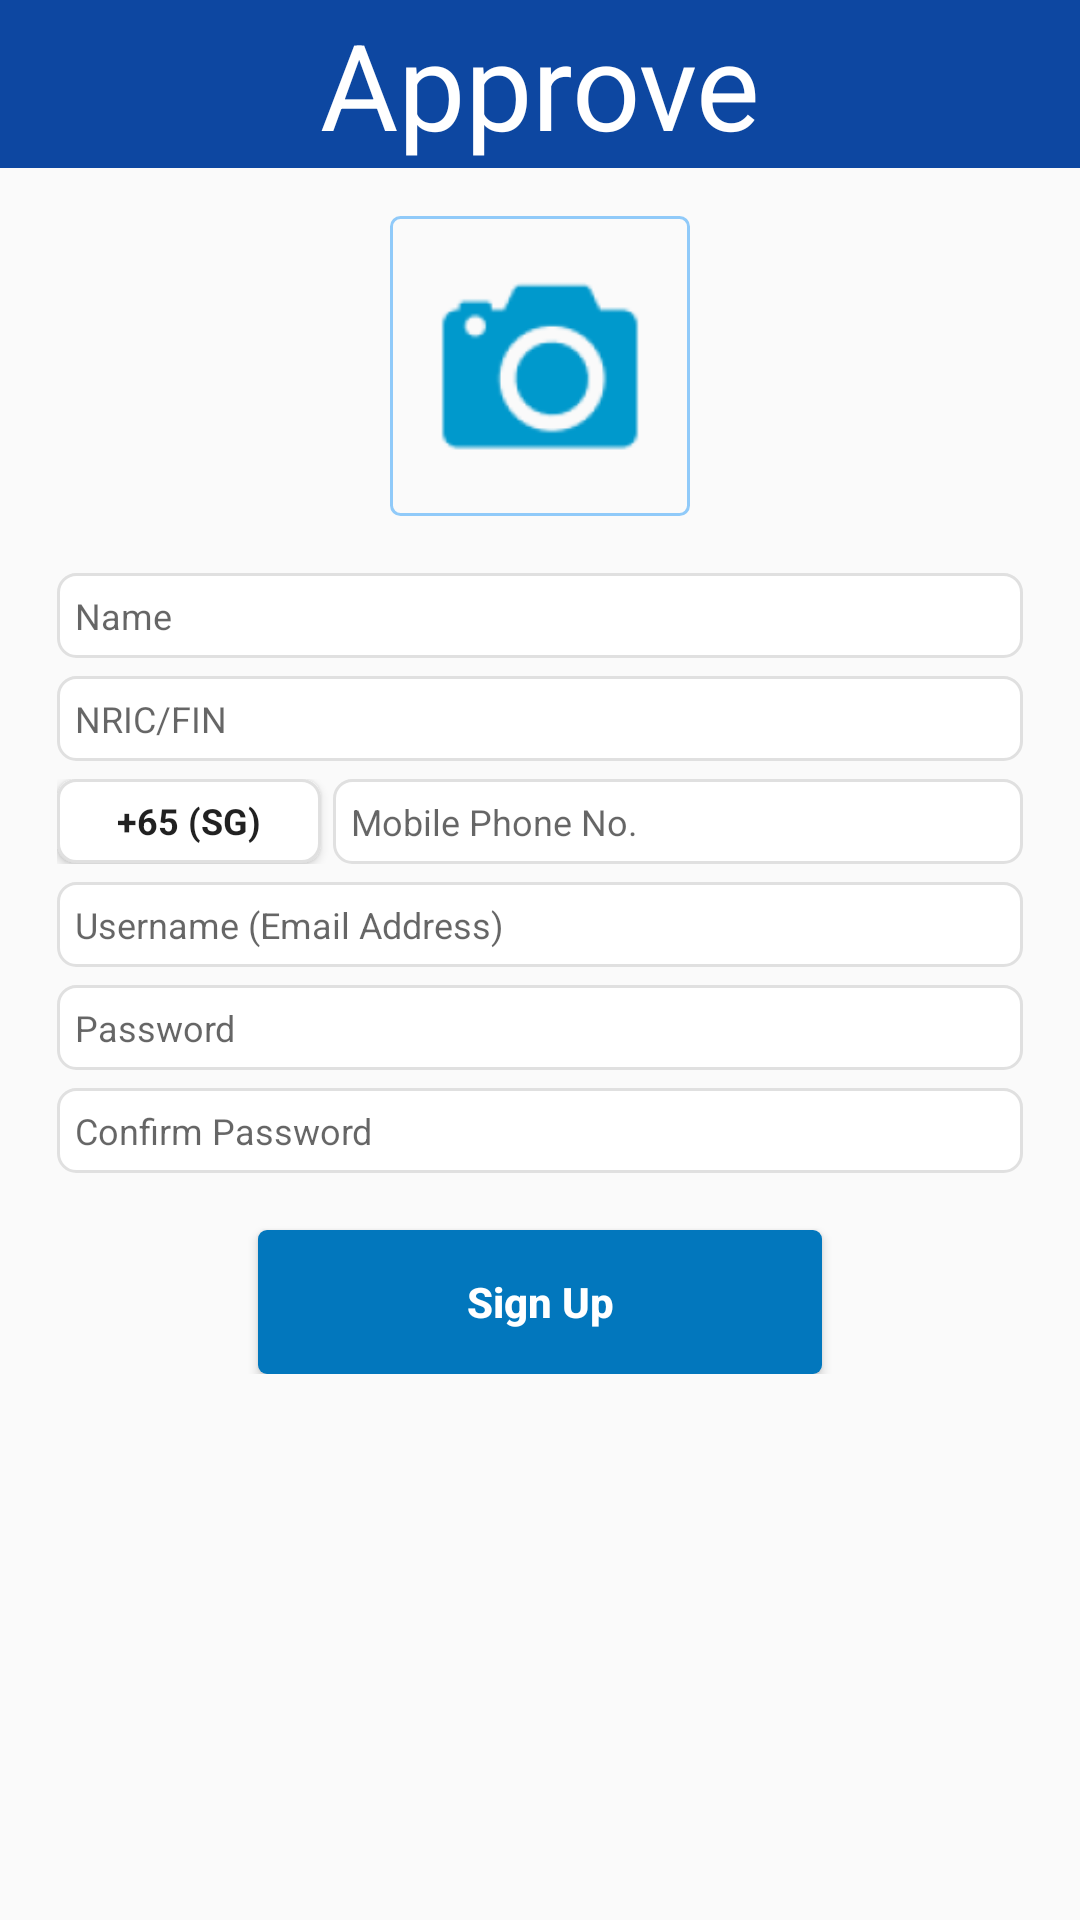

Screen size 1080 x 1920. Icon name, then its box in pixels as (x1, y1, x2, y2):
capture: (390, 216, 690, 516)
